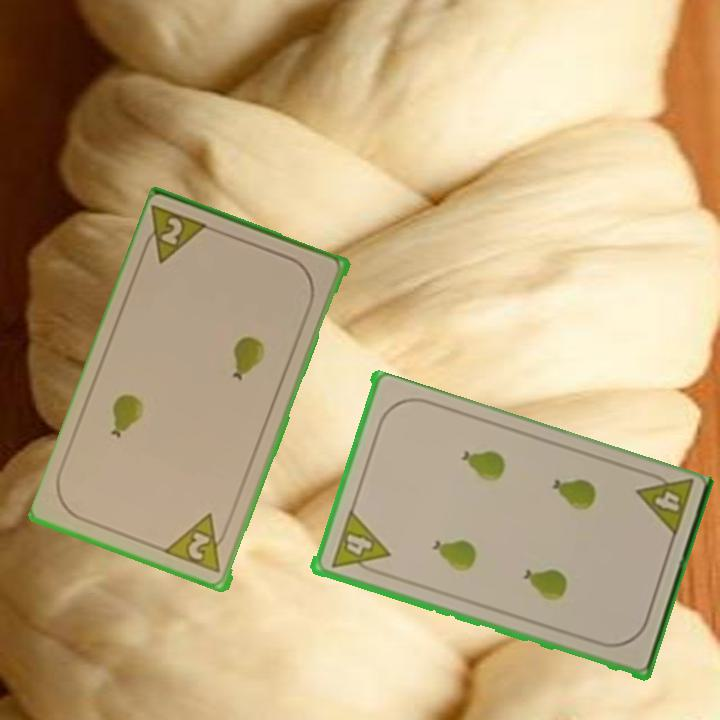2p: (137, 202, 214, 267), (163, 510, 232, 577)
4p: (632, 466, 697, 542), (327, 508, 391, 579)
